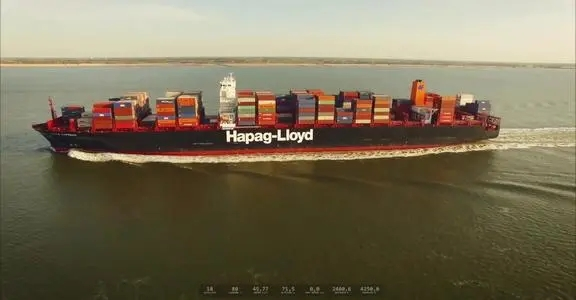Cargoship: (18, 68, 504, 158)
